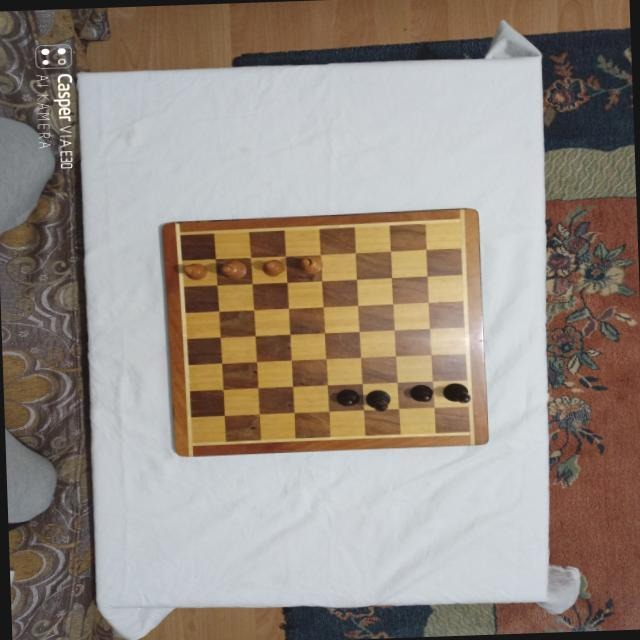black-bishop: (365, 388, 391, 412), (440, 383, 471, 403)
black-pawn: (334, 388, 360, 407), (407, 384, 433, 402)
white-bishop: (217, 260, 246, 280), (297, 255, 323, 275)
white-pawn: (180, 262, 207, 280), (259, 258, 284, 277)
